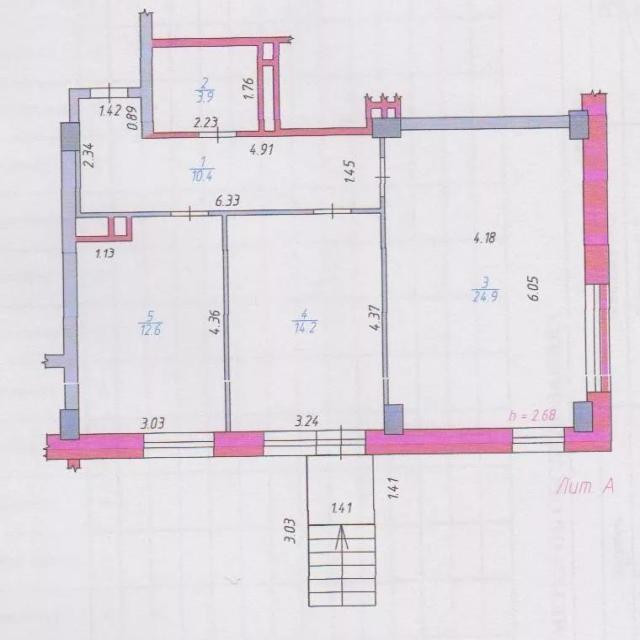Corridors: (79, 97, 379, 213), (153, 46, 258, 132)
Doors: (317, 422, 366, 462), (90, 81, 128, 104), (199, 124, 236, 145), (374, 157, 392, 197), (314, 202, 351, 221), (170, 206, 208, 223)
LBwalls: (40, 151, 79, 409), (578, 88, 610, 285), (365, 428, 513, 456), (564, 392, 613, 454), (43, 433, 144, 460), (215, 431, 264, 457), (383, 404, 403, 435), (59, 409, 79, 440), (568, 110, 589, 139), (574, 402, 593, 433), (61, 122, 81, 151), (372, 118, 401, 138)
Offices: (385, 128, 586, 429), (228, 214, 384, 430), (77, 216, 225, 434)
Stairs: (307, 455, 377, 608)
Walls: (127, 8, 405, 139), (208, 209, 314, 432), (75, 151, 171, 242), (350, 197, 389, 406), (69, 89, 91, 123), (380, 137, 385, 158)
Windows: (584, 284, 611, 393), (143, 432, 215, 458), (264, 431, 317, 456), (513, 428, 565, 453)
